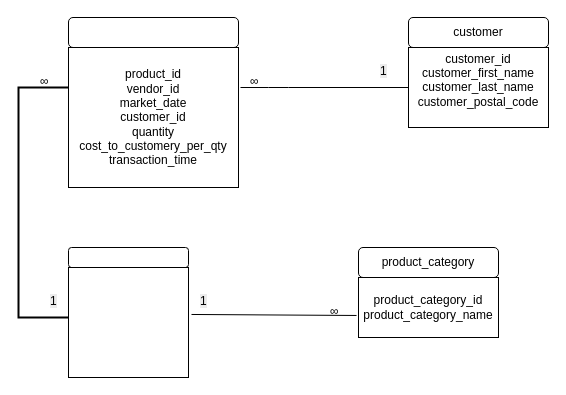
This 566x395 diagram has some shape labels left out. Here are the shapes that lost their labels. From the top down, the centre of each, then its label:
At point (153, 32): "customer_purchases".
At point (128, 257): "product".
At point (128, 322): "product_id product_name product_size product_category_id product_qty_type".
